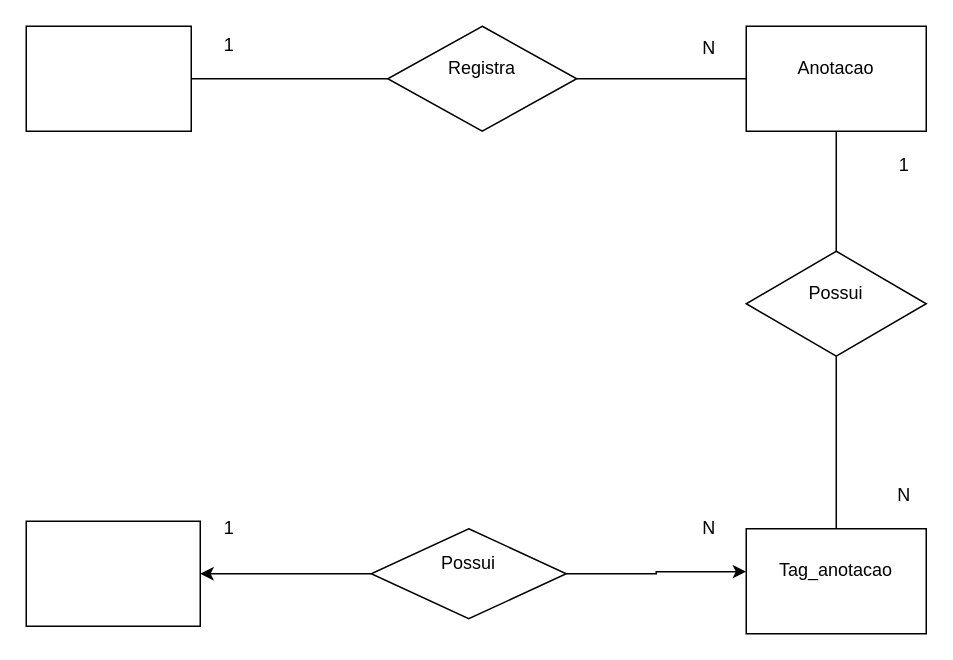
Some shapes in this 953 by 660 pixel diagram are drawn without their labels. Each missing label, with the centre of its shape:
Tag: [112,573]
Usuario: [108,78]
